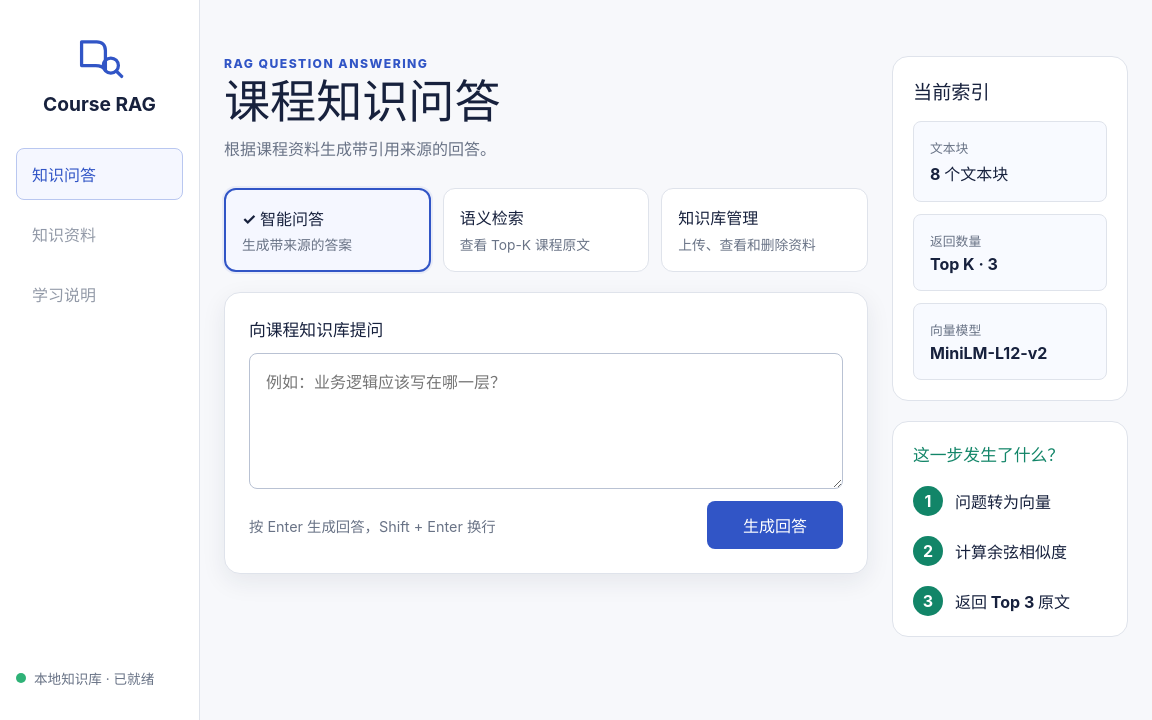
Scenario: App › switches to retrieval without requesting and keeps the shared input
This screenshot has width=1152, height=720.
Step 1. Type "业务逻辑应该写在哪一层？" into the text box labelled "向课程知识库提问" → (546, 421), box [249, 353, 843, 489]
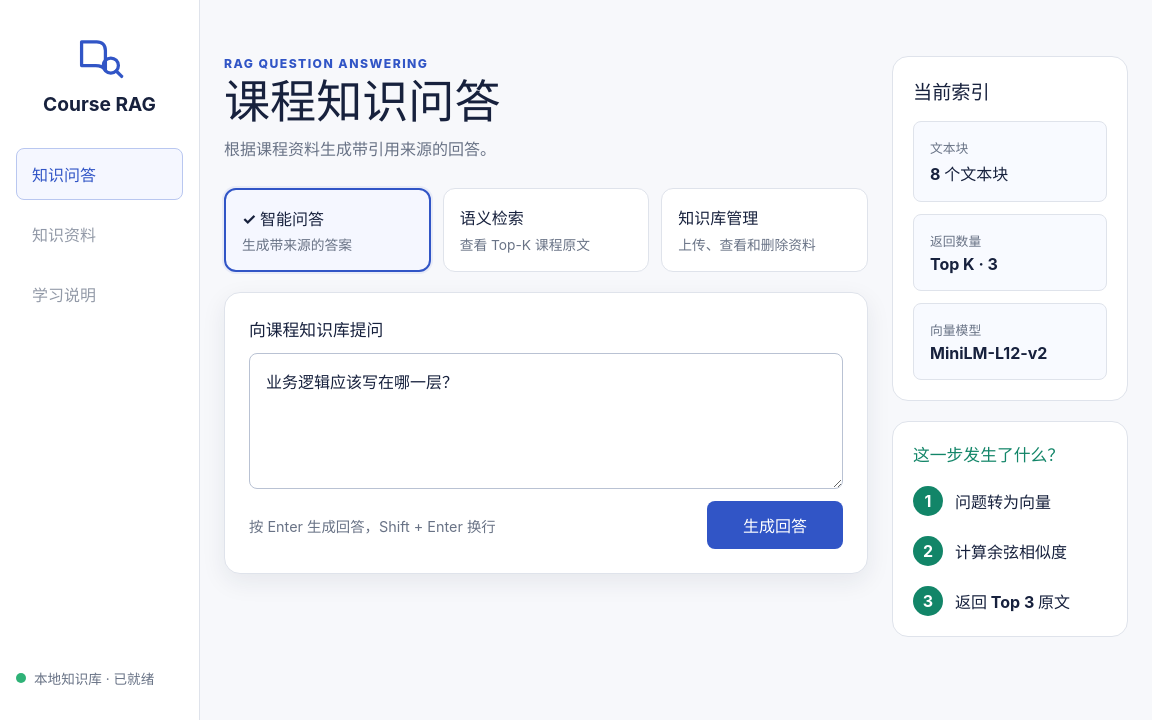
Step 2. Click the button "语义检索 查看 Top-K 课程原文" → (546, 230), box [443, 188, 649, 272]
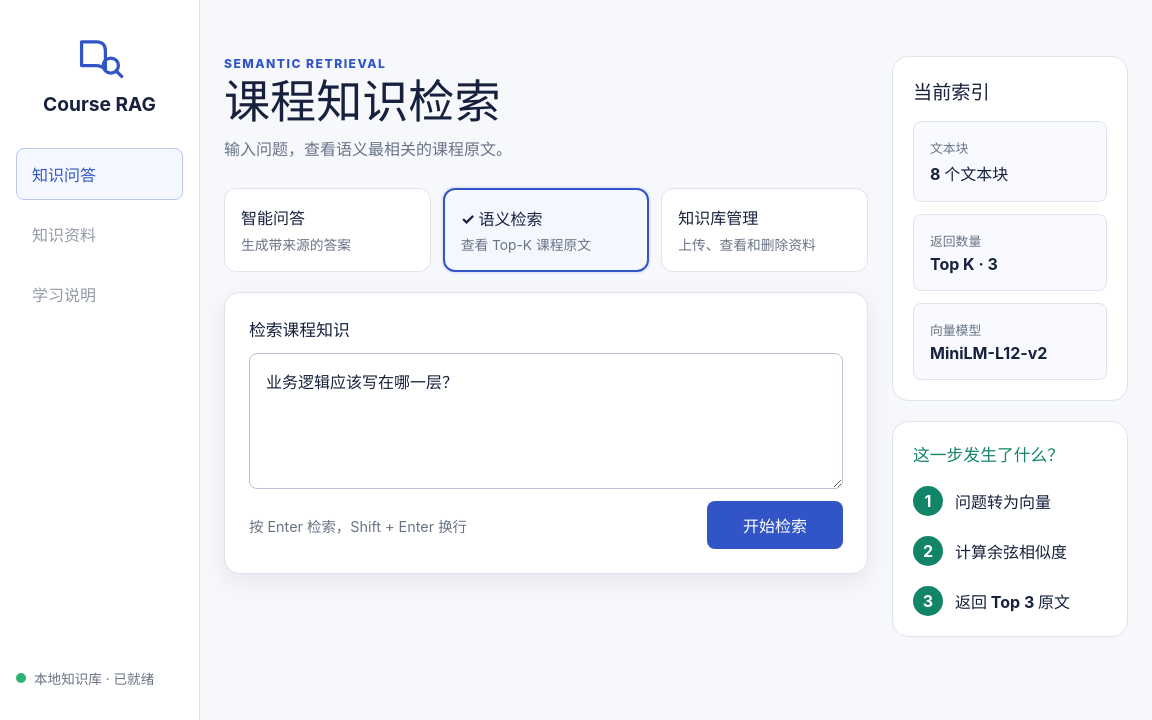
Expected: the text "课程知识检索" is shown, [224, 73, 500, 129]
Step 3. Submit the form, box [224, 292, 868, 574]
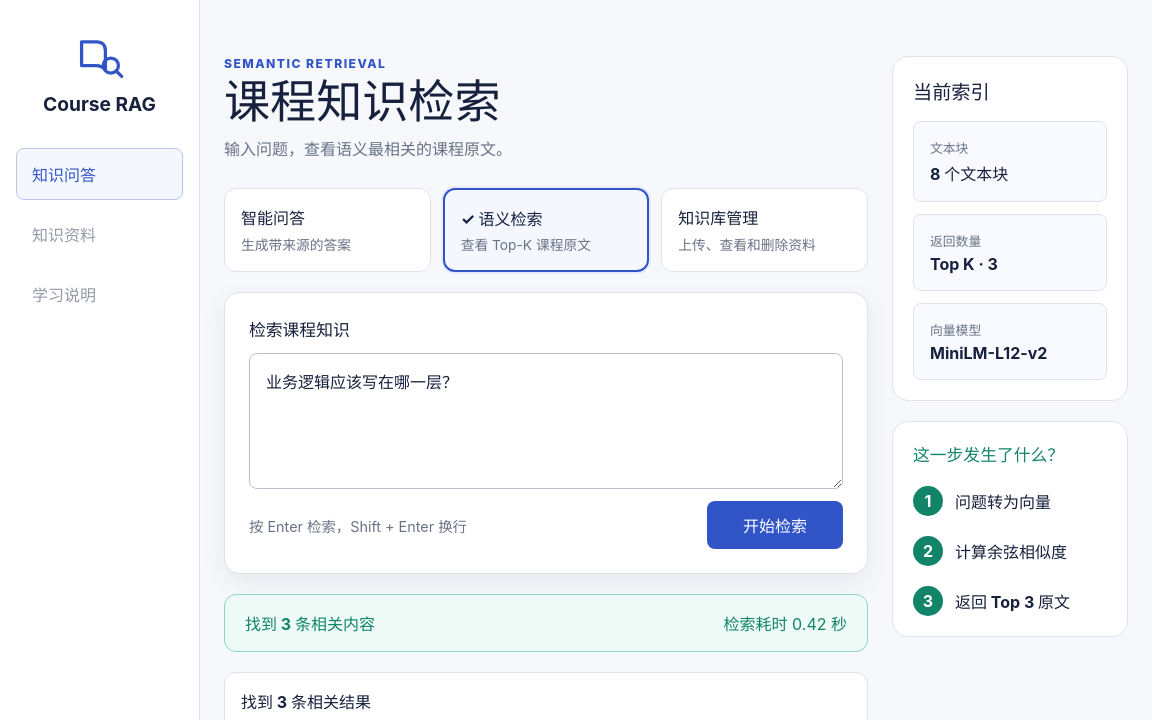
Expected: the text "找到 3 条相关内容" is shown, [245, 611, 375, 635]
